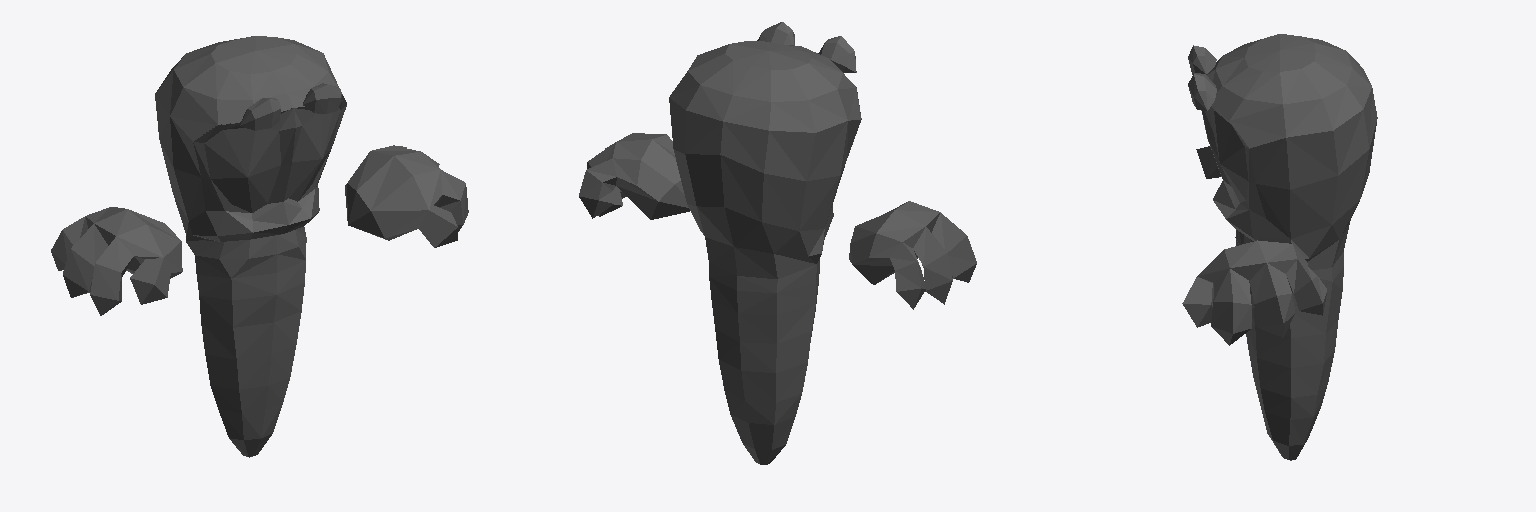
File: Worm.obj
3 views of the same model, side by side, from view 1: azimuth 30°, elevation 25°; view 2: azimuth 150°, elevation 25°; view 3: azimuth 270°, elevation 25° (orthographic).
Visible parts, largest first — view 1: Inst3D_RefRep.221, Inst3D_RefRep.223, Inst3D_RefRep.225; view 2: Inst3D_RefRep.221, Inst3D_RefRep.223; view 3: Inst3D_RefRep.221, Inst3D_RefRep.223, Inst3D_RefRep.225.
Boxes of the visible parts, box(x1,y1,x2,y2) form: Inst3D_RefRep.221: box(155, 36, 342, 457); Inst3D_RefRep.223: box(51, 145, 468, 315); Inst3D_RefRep.225: box(193, 95, 346, 220); Inst3D_RefRep.221: box(669, 22, 861, 464); Inst3D_RefRep.223: box(579, 133, 976, 309); Inst3D_RefRep.221: box(1188, 34, 1377, 460); Inst3D_RefRep.223: box(1182, 146, 1326, 345); Inst3D_RefRep.225: box(1201, 106, 1254, 209).
Size of the model in its own units: 4.03 by 4.18 by 1.8.